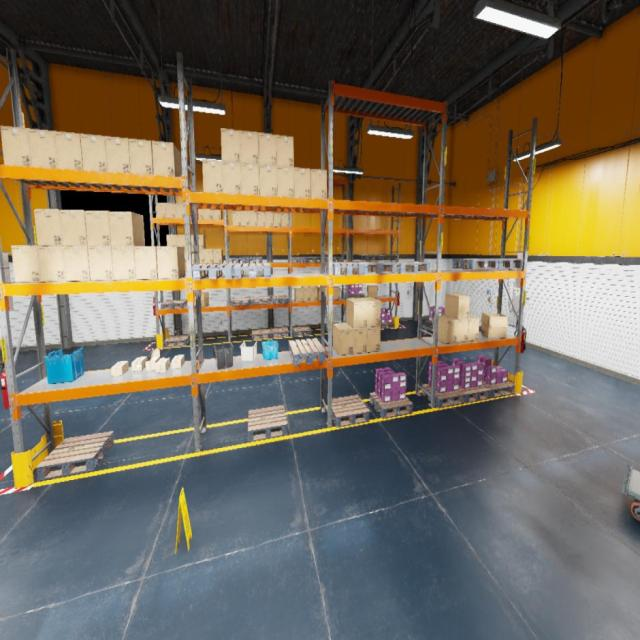box: (109, 211, 145, 246), (0, 126, 31, 166), (28, 128, 57, 167), (55, 130, 83, 170), (11, 246, 41, 283), (152, 141, 182, 177), (34, 209, 63, 246), (80, 133, 107, 171), (38, 246, 66, 282), (60, 210, 87, 246), (63, 246, 90, 281), (157, 246, 185, 279), (106, 135, 130, 173), (85, 210, 111, 245), (129, 138, 153, 175), (88, 246, 113, 280), (112, 246, 136, 280), (134, 246, 158, 279), (202, 159, 223, 193), (433, 315, 458, 343), (444, 292, 470, 318), (481, 313, 508, 338), (240, 163, 260, 196), (222, 161, 242, 194), (221, 128, 240, 162), (333, 323, 353, 355), (347, 298, 368, 328), (259, 132, 277, 166), (240, 130, 258, 164), (360, 297, 380, 327), (446, 315, 468, 342), (276, 135, 294, 167), (259, 165, 277, 195), (294, 167, 311, 198), (277, 166, 294, 197), (310, 169, 327, 199), (367, 326, 381, 352), (353, 328, 367, 354), (145, 350, 160, 370), (468, 315, 479, 341), (111, 361, 129, 376), (194, 291, 208, 307), (155, 358, 170, 372), (132, 356, 146, 371), (172, 355, 184, 369), (165, 203, 175, 218), (367, 285, 378, 298), (156, 203, 165, 218), (213, 250, 223, 263), (317, 287, 326, 301), (176, 235, 185, 249), (175, 204, 184, 218), (295, 287, 303, 302), (204, 250, 213, 263), (198, 235, 206, 249), (258, 213, 266, 227), (250, 213, 258, 227), (241, 212, 249, 226), (233, 212, 241, 226), (281, 214, 289, 227), (273, 214, 281, 227), (212, 209, 222, 219), (167, 234, 176, 245), (325, 288, 333, 300), (310, 289, 318, 301), (334, 287, 341, 300), (266, 214, 273, 227), (204, 209, 212, 219), (304, 289, 310, 301), (199, 250, 204, 263), (198, 209, 203, 219), (191, 250, 194, 263), (302, 285, 310, 289), (184, 250, 186, 264), (191, 235, 193, 249), (190, 216, 191, 218)
pallets: (37, 431, 114, 481), (248, 406, 287, 442), (332, 395, 370, 427), (370, 392, 412, 419), (288, 338, 326, 366), (421, 384, 465, 408), (192, 263, 235, 280), (459, 385, 491, 403), (355, 262, 397, 275), (234, 264, 271, 278), (482, 382, 514, 398), (326, 262, 364, 275), (391, 261, 430, 273), (452, 259, 498, 269), (479, 259, 523, 269), (165, 335, 190, 347), (161, 300, 187, 310), (252, 328, 270, 340), (270, 328, 289, 338), (293, 326, 312, 336), (231, 297, 250, 306), (252, 297, 270, 305), (272, 296, 288, 304), (345, 292, 365, 298), (228, 257, 246, 263), (361, 255, 381, 260), (292, 257, 308, 263), (246, 257, 262, 263), (325, 257, 342, 262), (381, 323, 394, 329), (308, 257, 320, 263), (325, 324, 333, 333), (382, 255, 396, 260), (425, 320, 433, 328)
